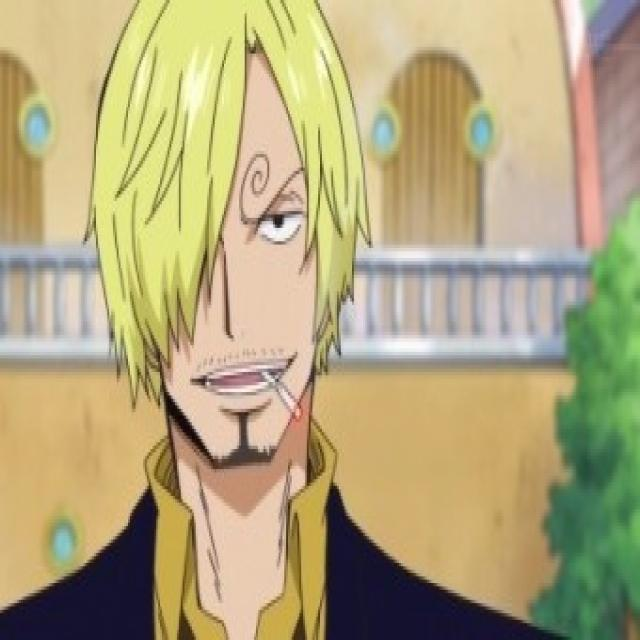Sangdi: (72, 0, 370, 471)
